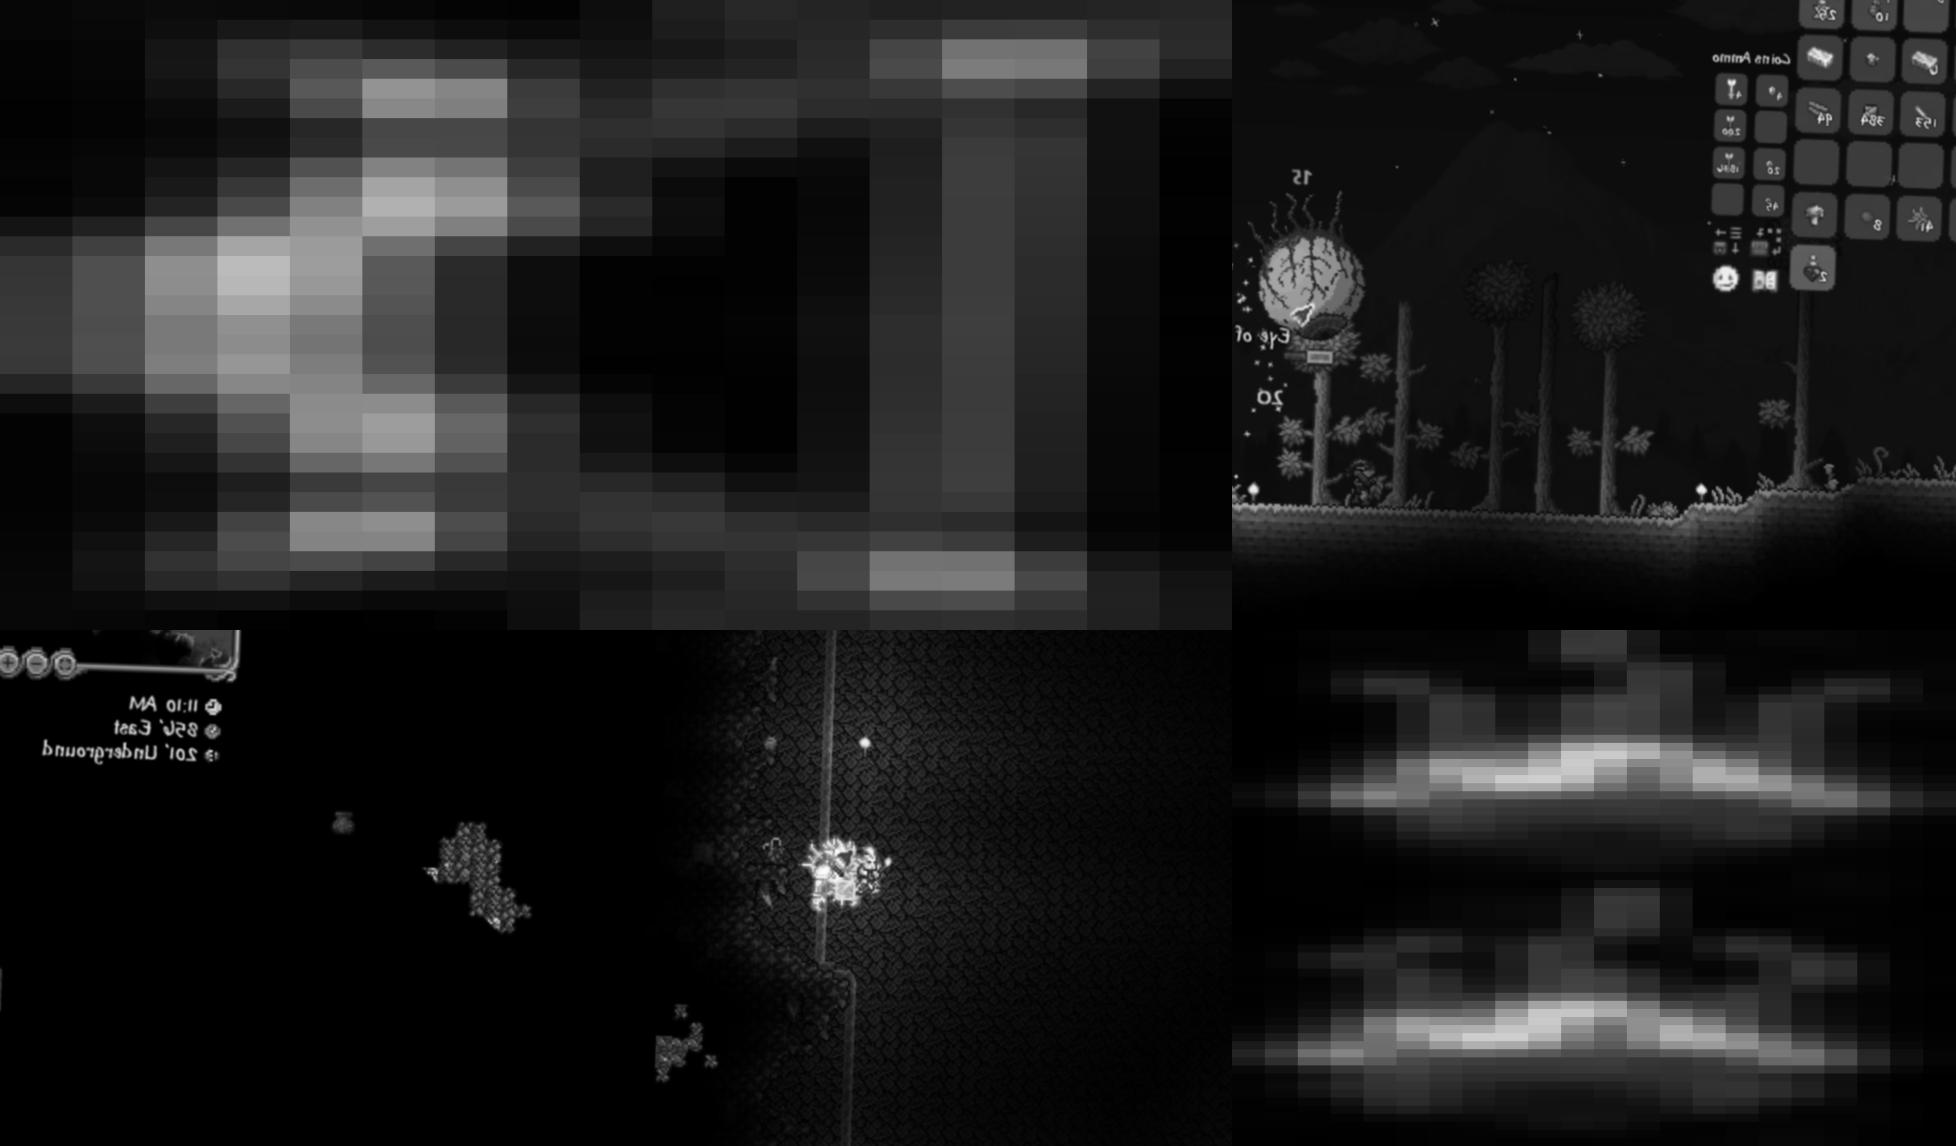bow: (0, 0, 1232, 630)
eye: (1264, 630, 1956, 880)
eyeC: (1237, 183, 1367, 344)
